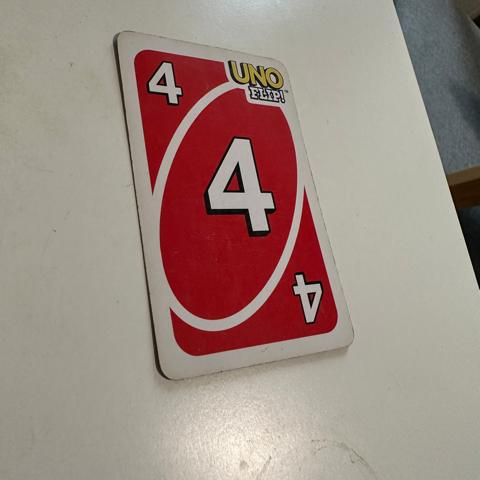6_green: (202, 136, 277, 235), (143, 61, 189, 106), (292, 270, 323, 323)
